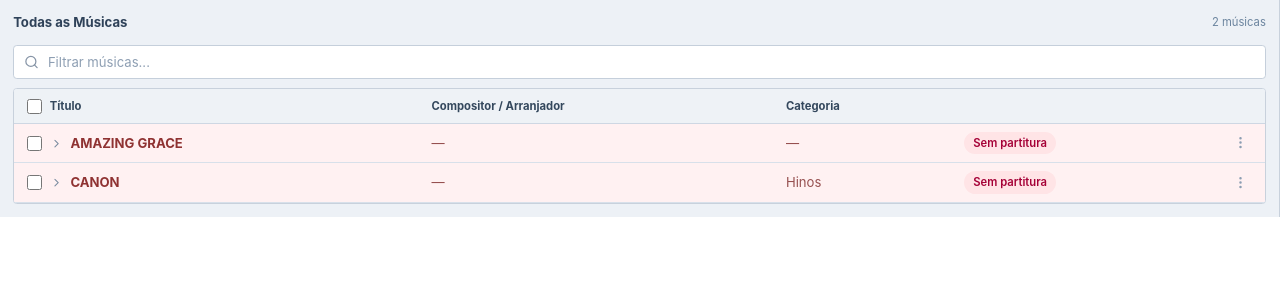
Test: SongsList › shows the reindex option when all selected songs have no scores
expect the text "CANON" is shown: met, box top-left (70, 173), bottom-right (120, 192)
Click the checkbox named "select CANON".
click(35, 183)  # box top-left (27, 175), bottom-right (42, 190)
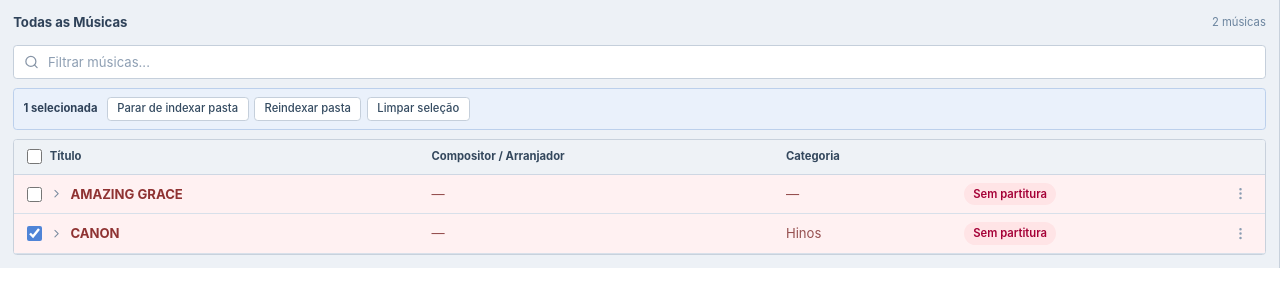
expect the button "Reindexar pasta" is shown: met, box top-left (254, 97), bottom-right (361, 121)
expect the button "Parar de indexar pasta" is shown: met, box top-left (107, 97), bottom-right (248, 121)
